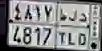1: (34, 5, 42, 46)
4: (10, 1, 22, 46)
7: (41, 2, 52, 46)
8: (23, 4, 32, 45)
D: (77, 10, 86, 47)
L: (67, 7, 76, 47)
T: (58, 8, 67, 46)
